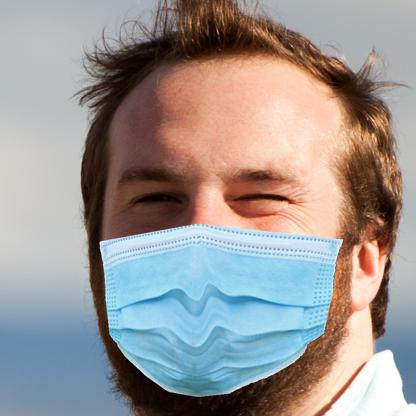mask: (92, 224, 345, 398)
